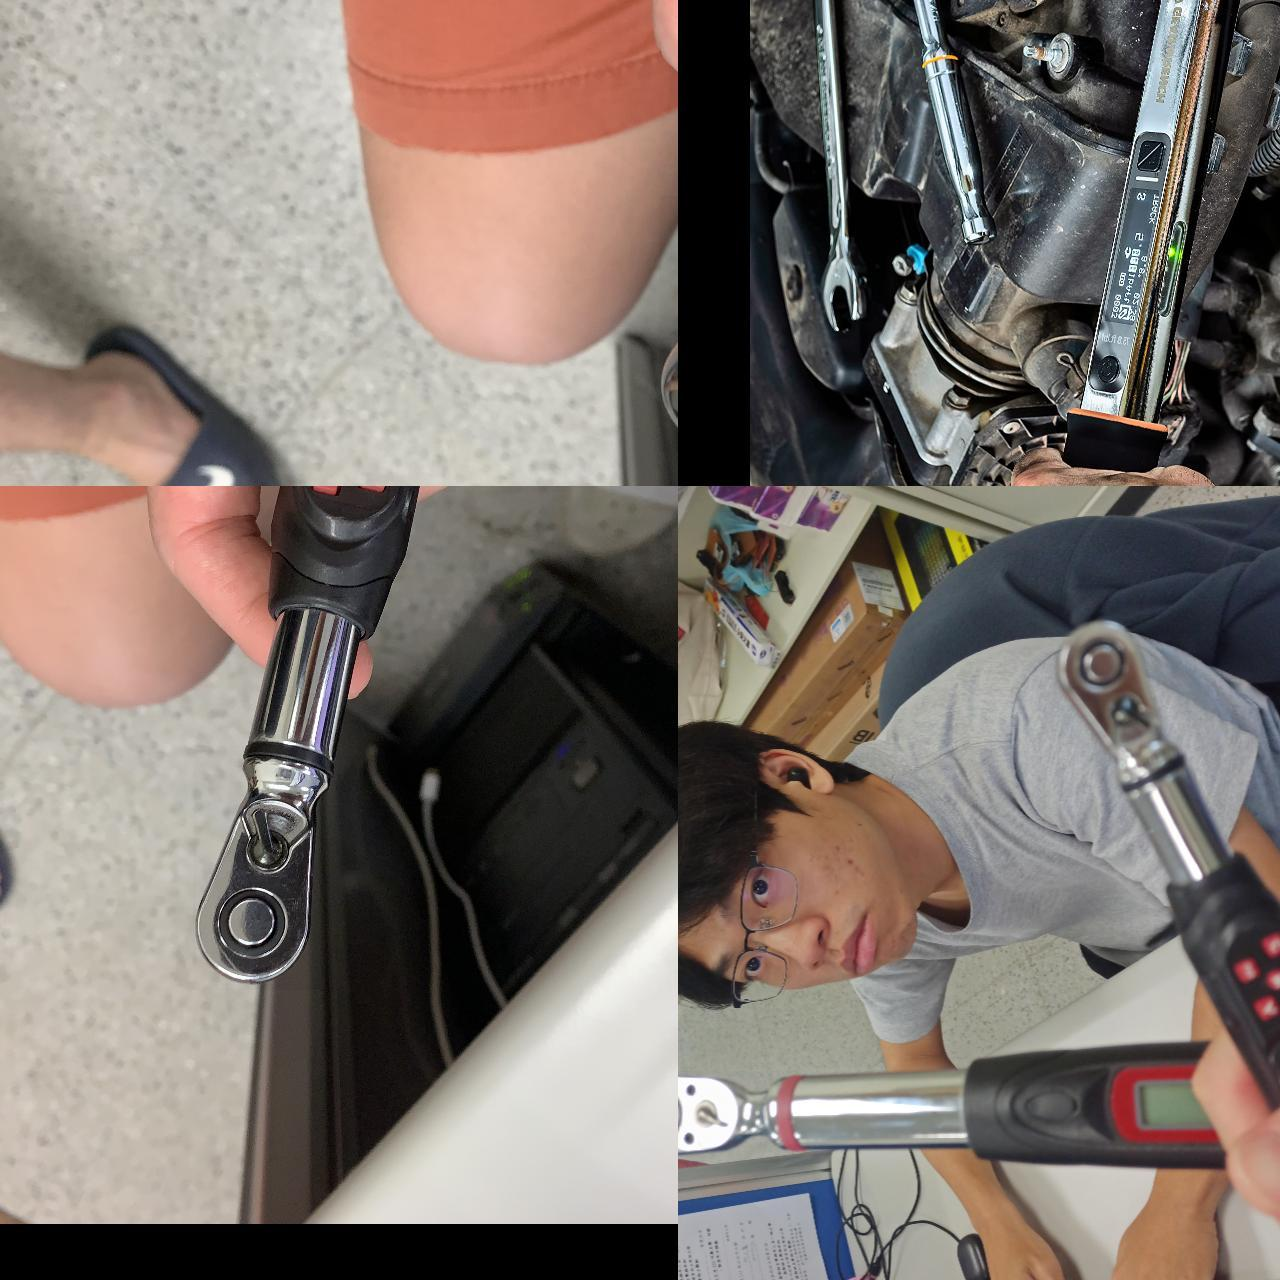Tool: (192, 750, 322, 990), (1062, 617, 1182, 771), (678, 1070, 779, 1162)
